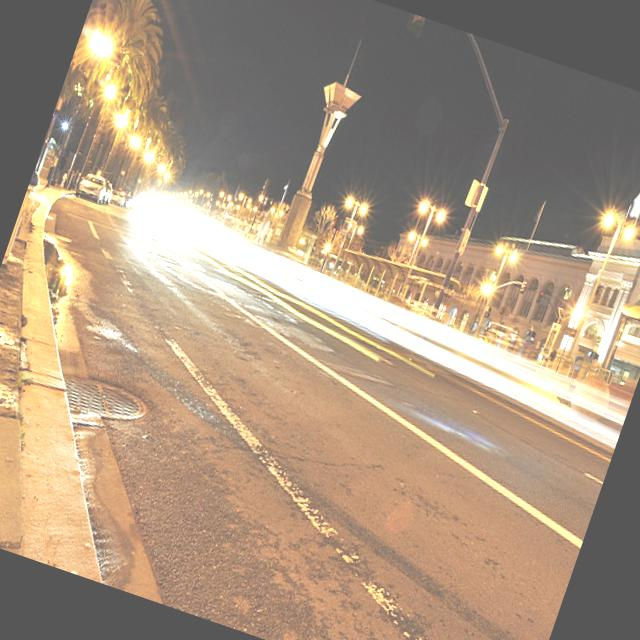Vehicle: (74, 170, 110, 204), (109, 190, 129, 209), (100, 186, 114, 207), (121, 194, 133, 210)
